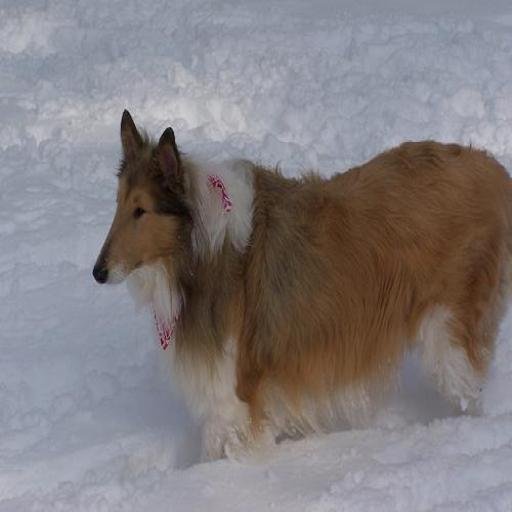dog_face: (88, 110, 194, 290)
